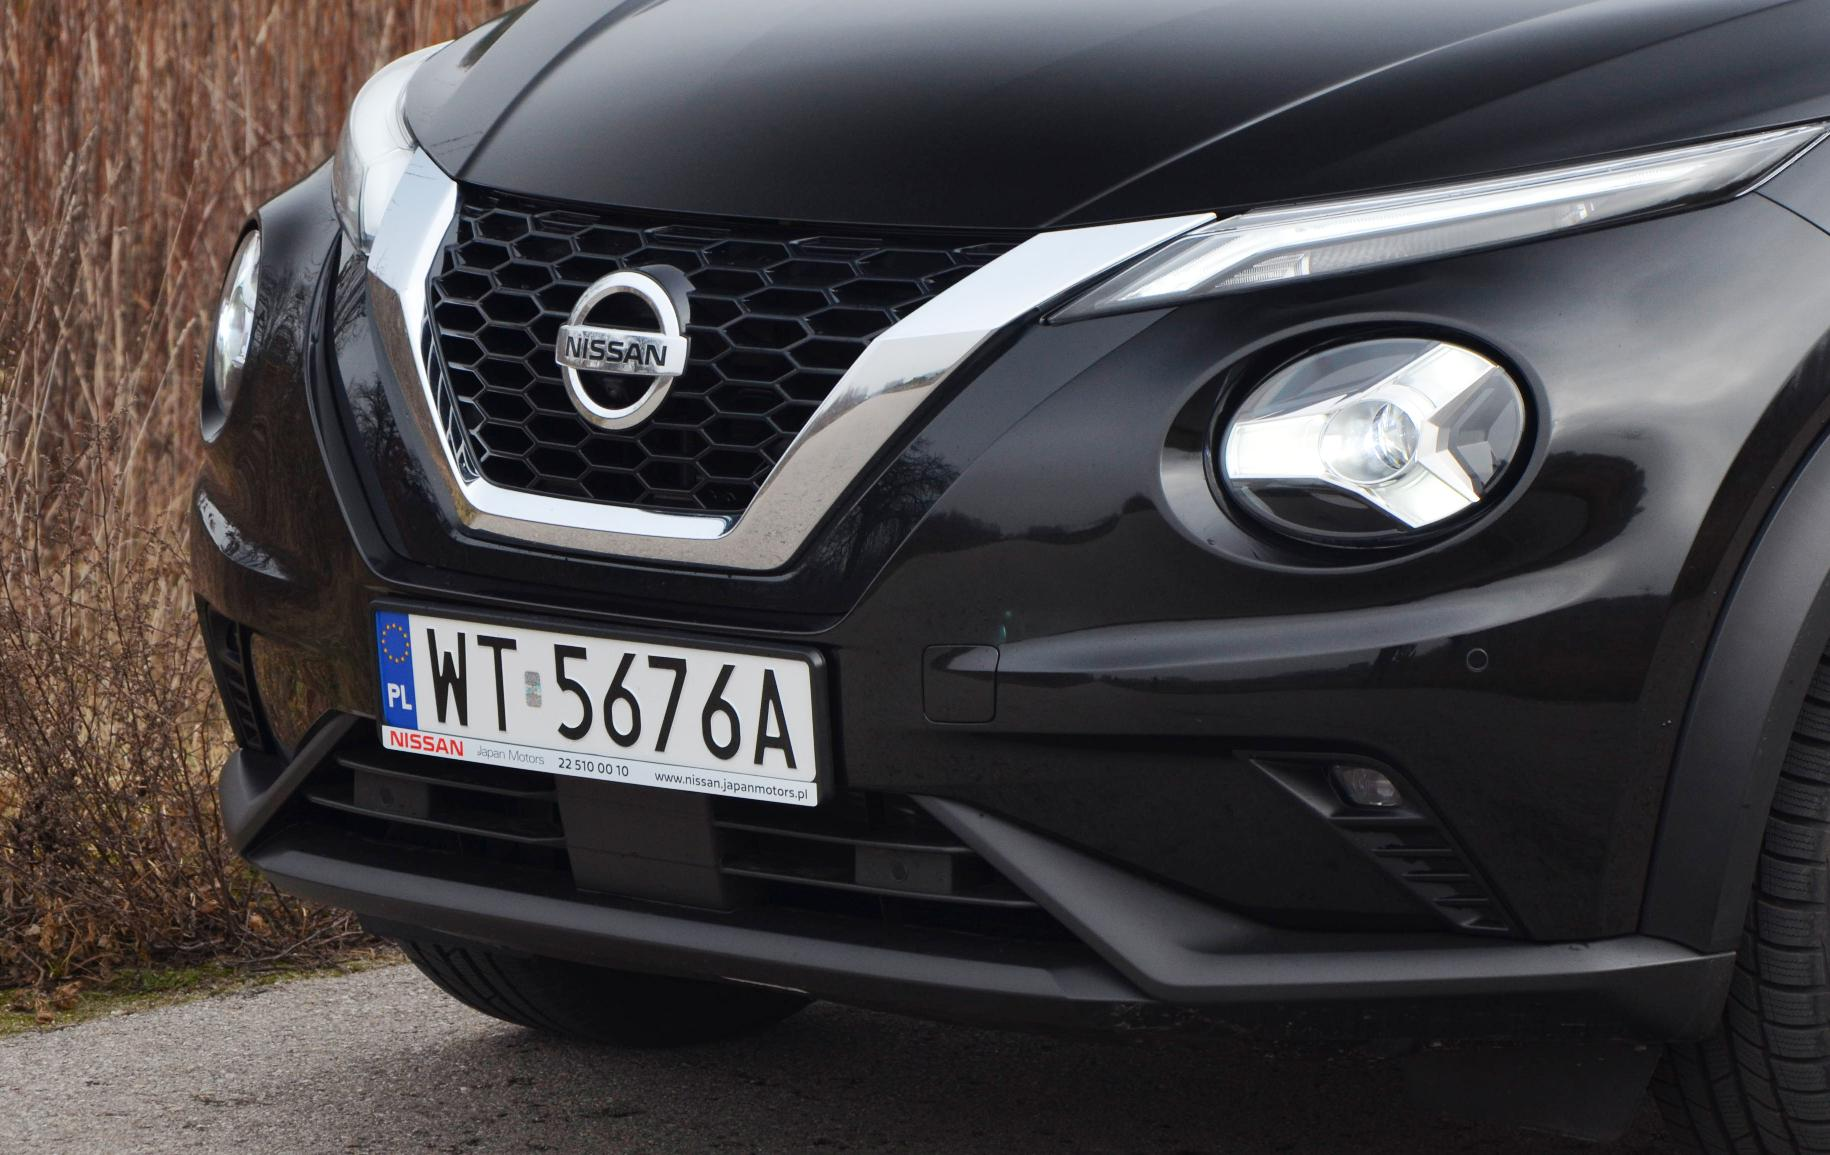number_plate: (369, 604, 834, 821)
